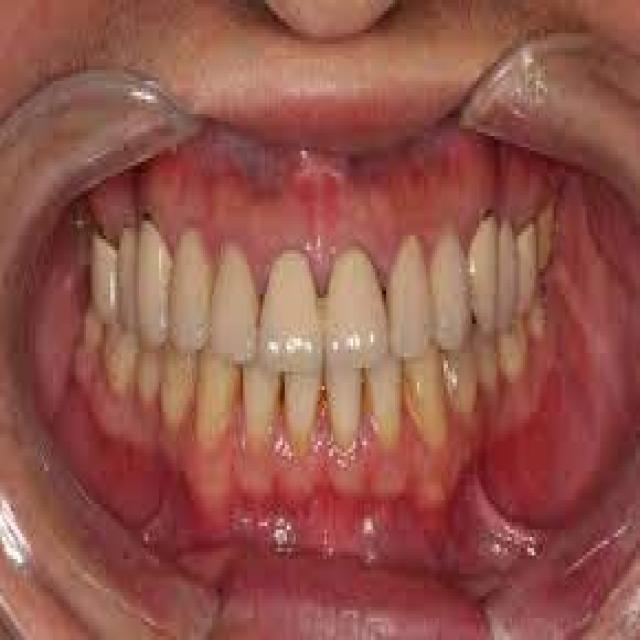tooth: (260, 243, 322, 379), (324, 243, 388, 371), (424, 224, 474, 346), (388, 239, 437, 353), (170, 236, 216, 350), (212, 254, 256, 368), (194, 357, 241, 456), (137, 217, 170, 346), (322, 360, 364, 449), (466, 221, 498, 331), (408, 357, 448, 438), (362, 357, 404, 434), (163, 357, 199, 441), (283, 379, 322, 452), (494, 214, 516, 338), (243, 372, 278, 448), (93, 232, 121, 324), (106, 324, 135, 404), (128, 346, 163, 408), (444, 338, 472, 412), (516, 214, 536, 316), (499, 316, 527, 386), (534, 195, 552, 276), (474, 342, 499, 394), (122, 224, 134, 324), (532, 316, 549, 349), (82, 312, 97, 346)
